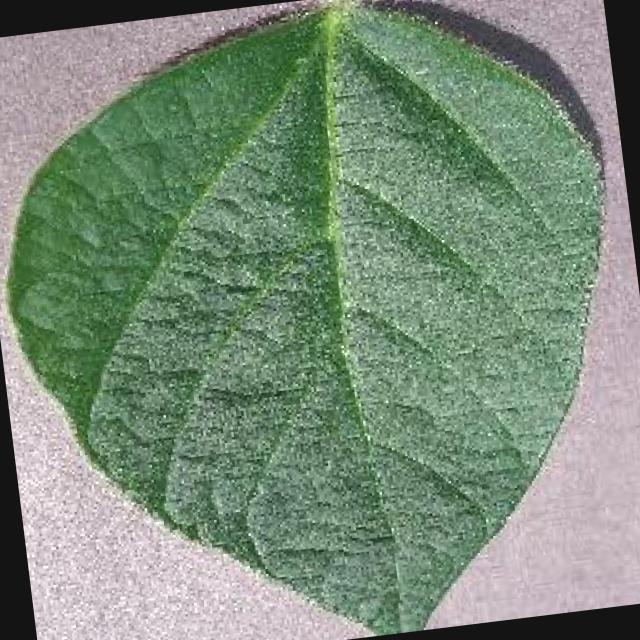healthy: (8, 6, 597, 635)
